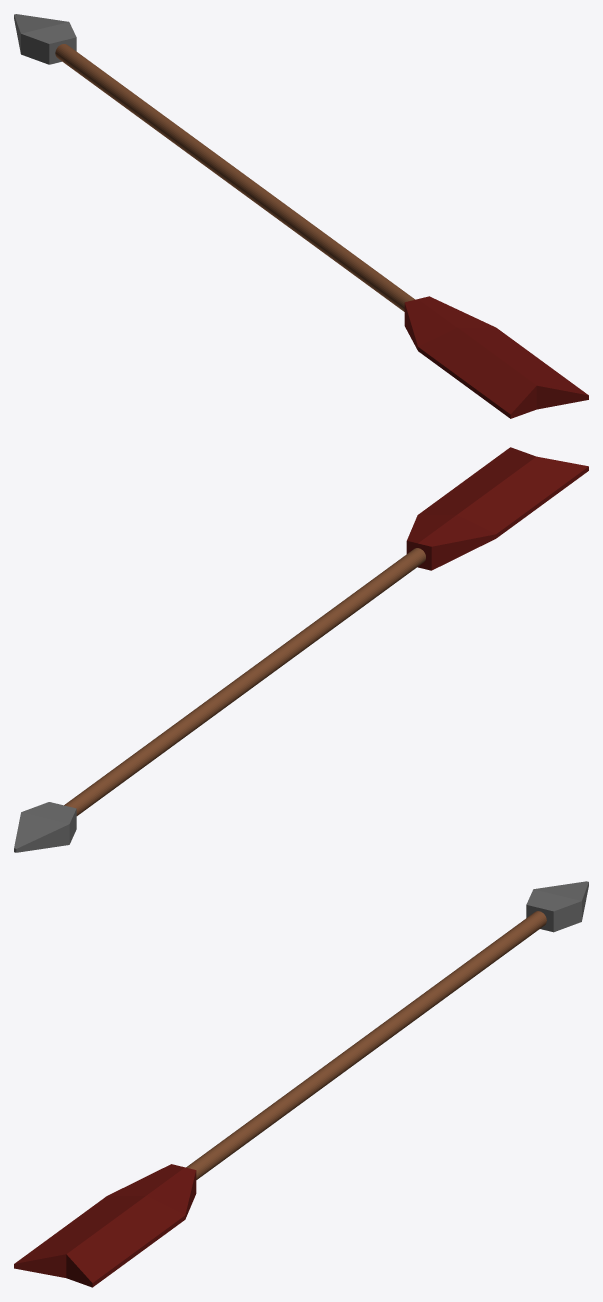
Rendered from CrossbowBolt.fbx.
3 views of the same model, one above another, from view 1: azimuth 30°, elevation 25°; view 2: azimuth 150°, elevation 25°; view 3: azimuth 330°, elevation 25° (orthographic).
Visible parts, largest first — view 1: Cube.089; view 2: Cube.089; view 3: Cube.089.
Boxes of the visible parts, x1,y1,x2,y2 form: Cube.089: (14, 14, 588, 418); Cube.089: (14, 447, 588, 852); Cube.089: (14, 881, 588, 1287).
Size of the model in its own units: 16.05 by 4.68 by 190.
